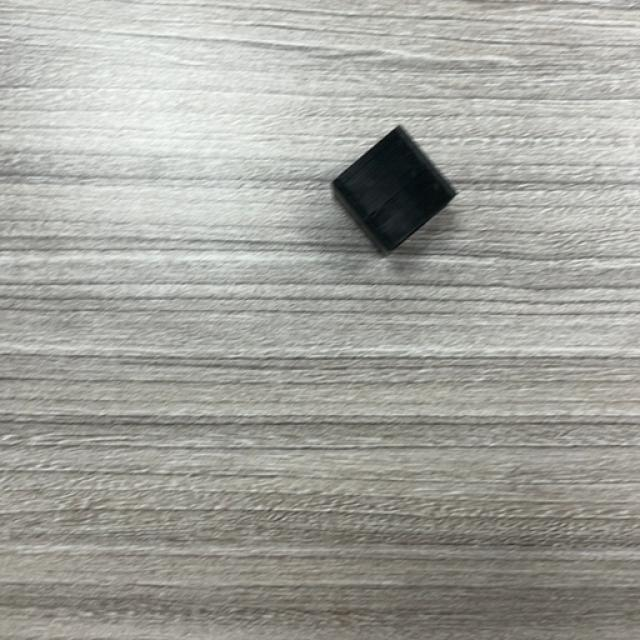Negro: (330, 128, 459, 256)
